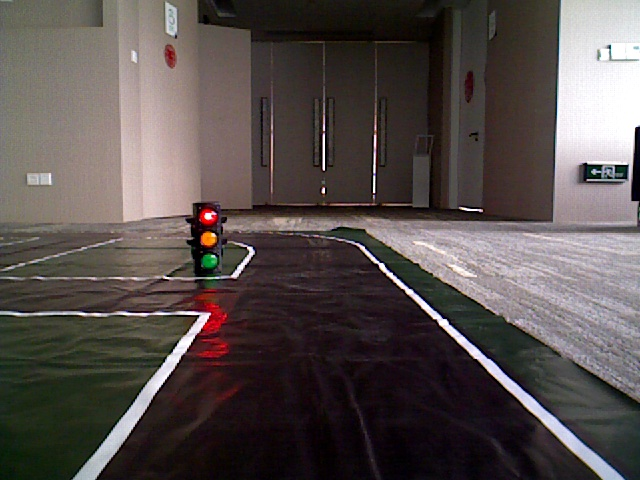red: (194, 203, 217, 270)
